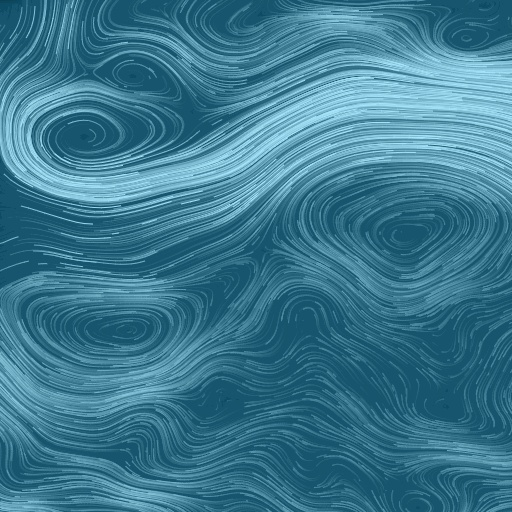eddy: (35, 286, 195, 373), (24, 93, 167, 172), (347, 194, 474, 280), (439, 22, 494, 55), (109, 54, 159, 88)
